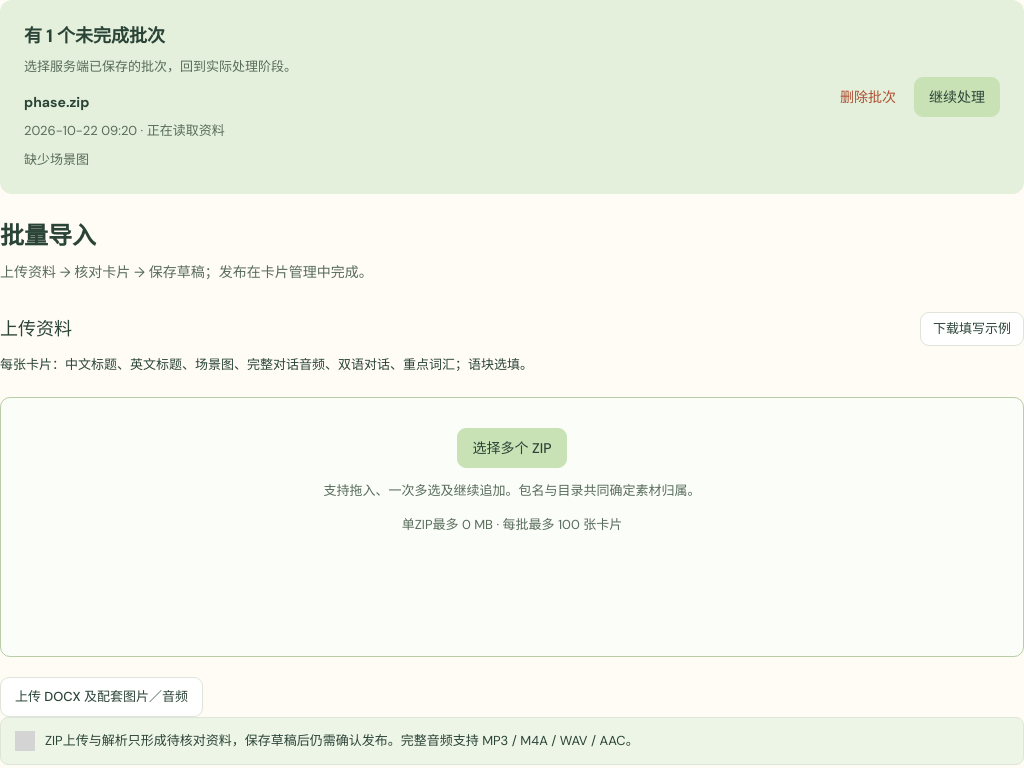
Scenario: restores the server processing phase instead of inferring review from items
The width and height of the screenshot is (1024, 768).
Step 1. Click the button "继续处理" → (957, 97), box [914,77,1000,117]
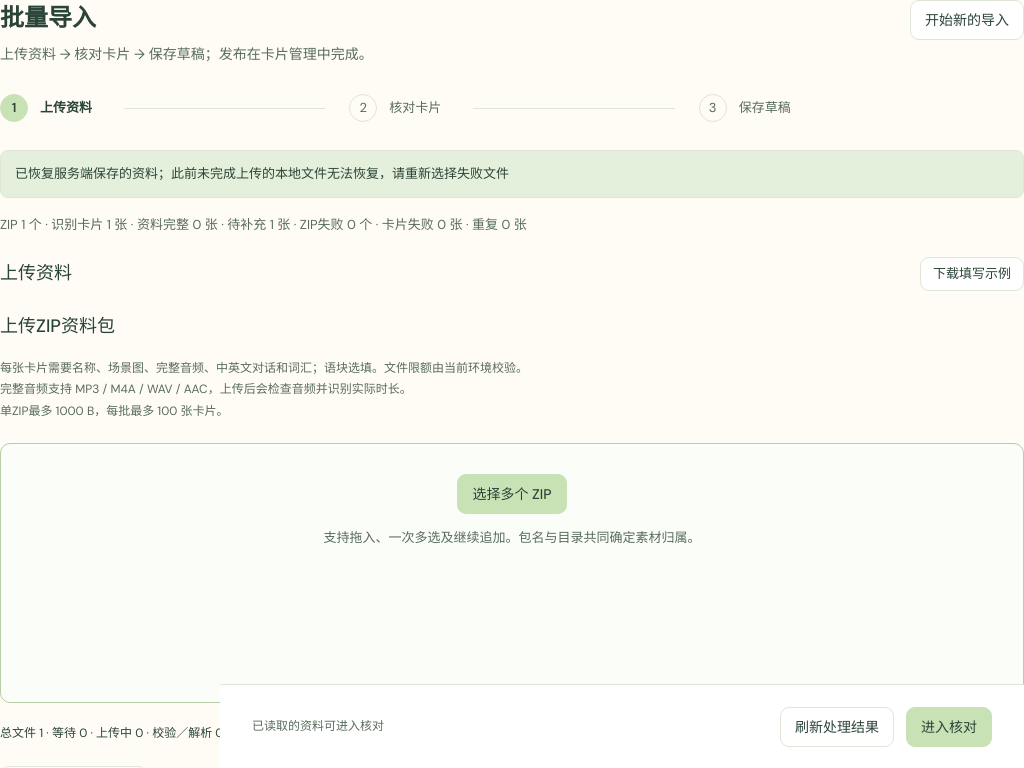
expect the list item "1 上传资料" is shown: met, box [0,94,92,122]
